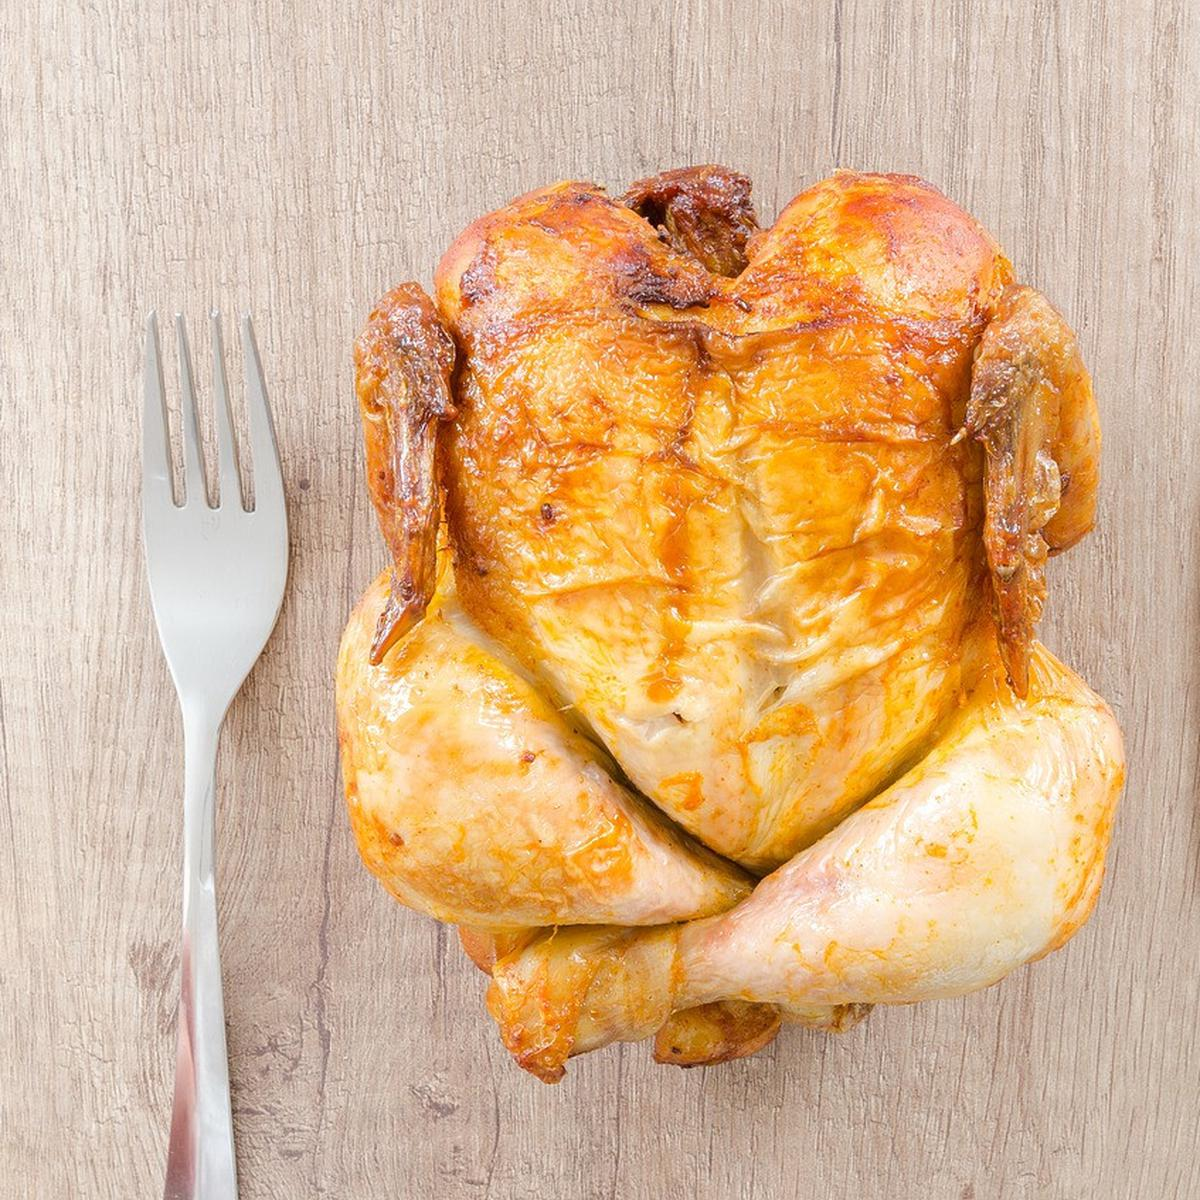Ayam: (307, 110, 1157, 1097)
